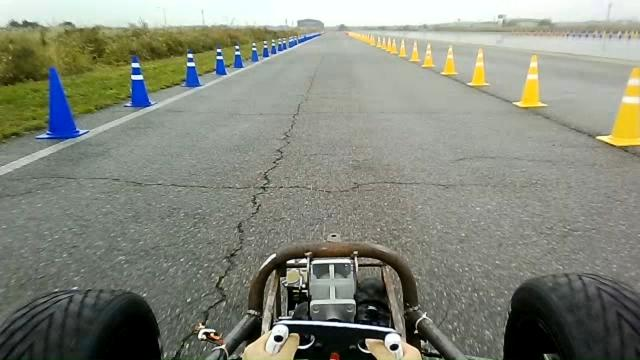blue cone: (35, 66, 89, 139), (124, 55, 156, 108), (180, 48, 202, 87), (214, 45, 227, 75), (232, 44, 245, 68), (250, 41, 259, 62), (262, 40, 270, 58), (270, 40, 277, 54)
yellow cone: (596, 66, 640, 147), (512, 54, 548, 108), (466, 48, 491, 86), (440, 44, 458, 76), (422, 42, 435, 68), (409, 40, 420, 62), (398, 38, 408, 58), (389, 38, 398, 54)
